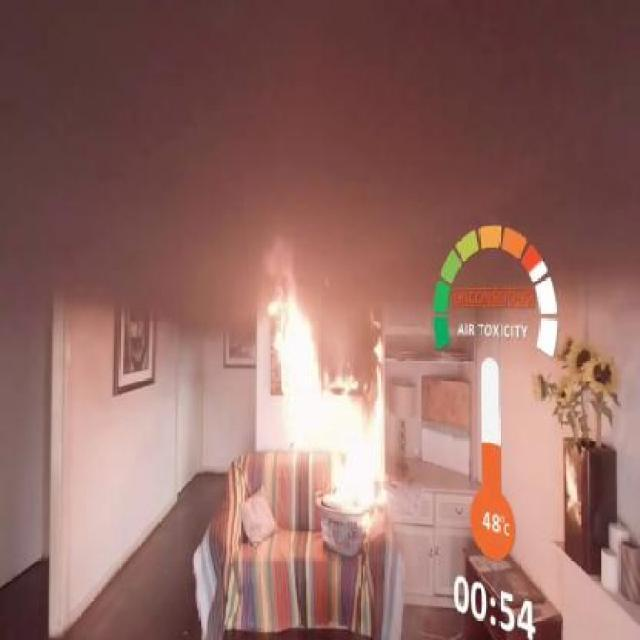fire: (266, 270, 414, 553)
smoke: (70, 18, 538, 236)
